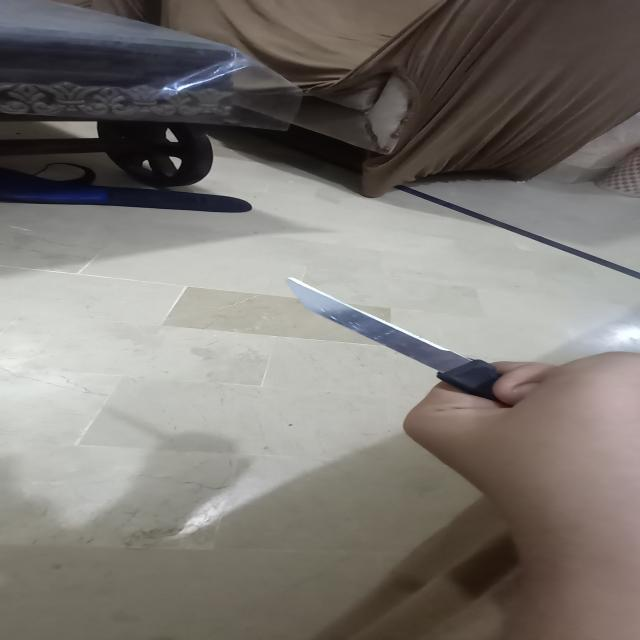Knife: (270, 263, 640, 423)
